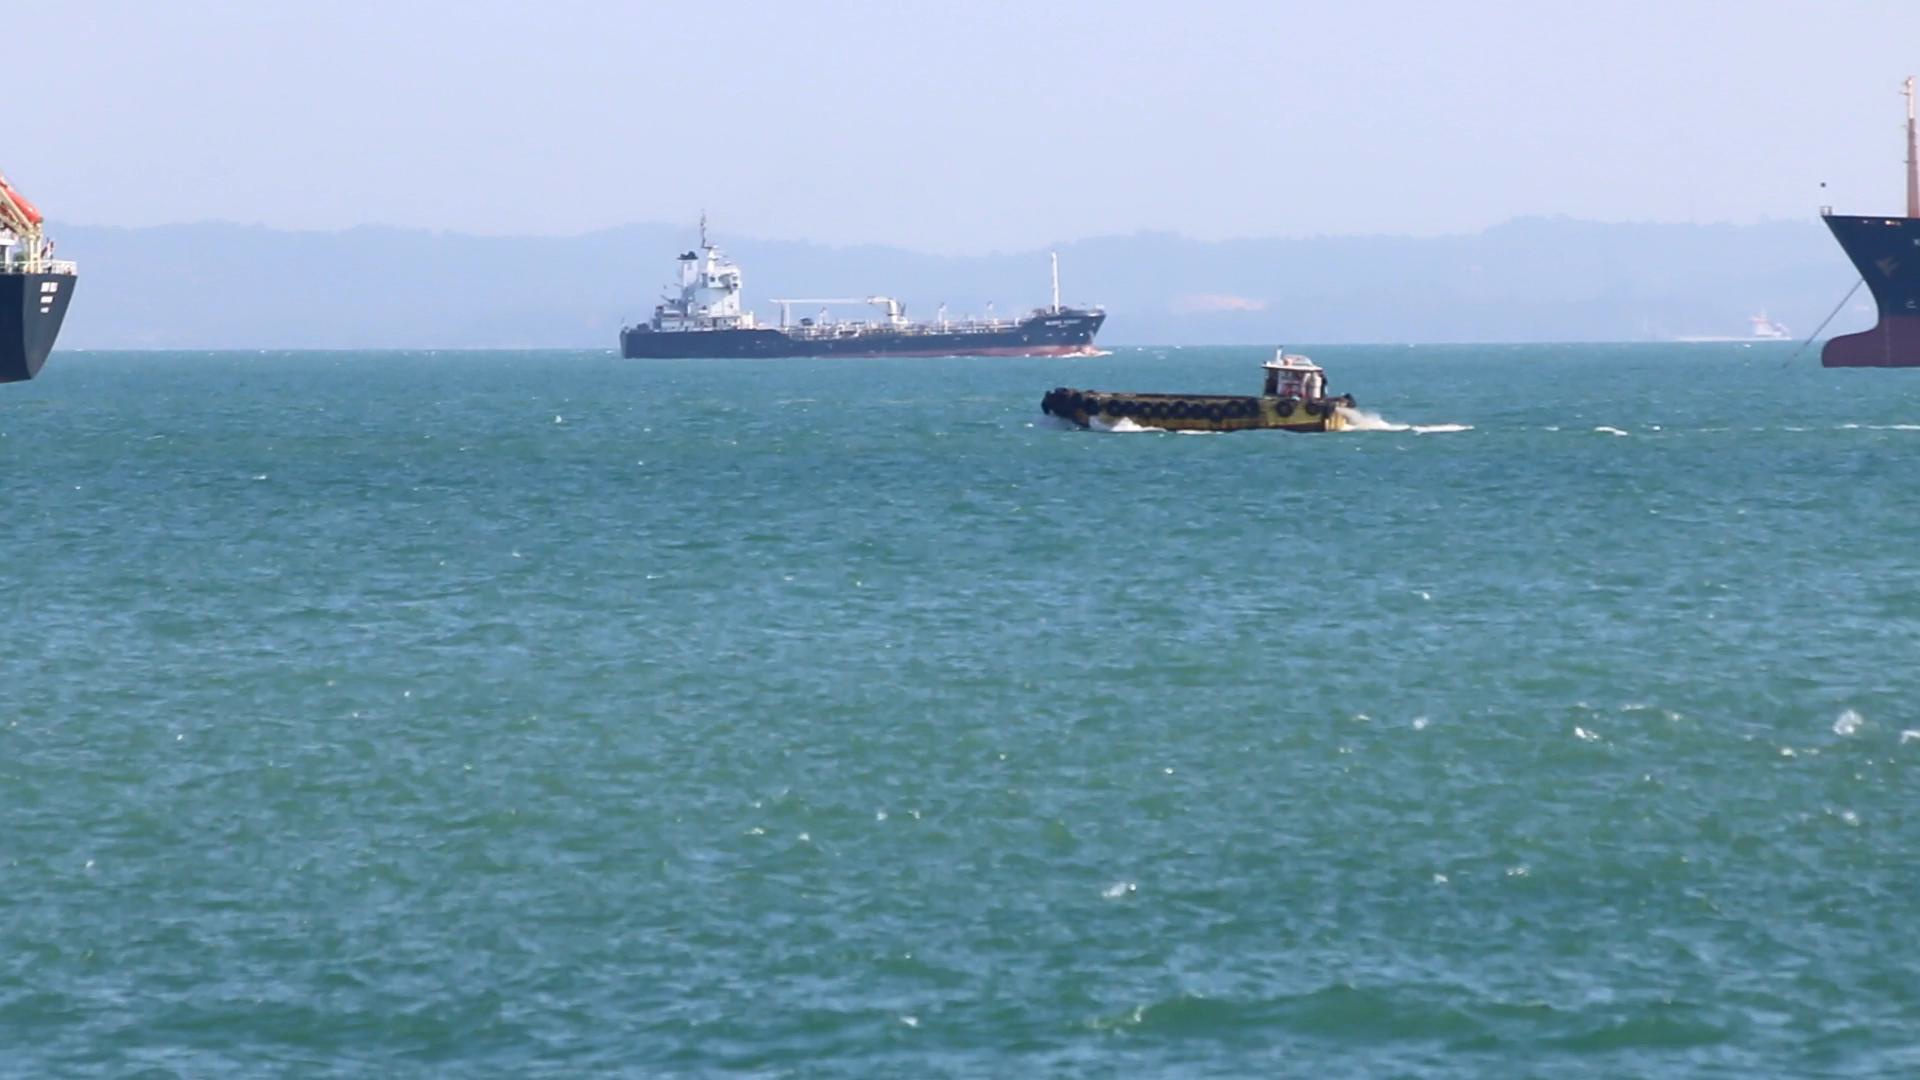Container Ship: (618, 209, 1109, 362), (1819, 75, 1920, 369), (0, 175, 74, 384)
